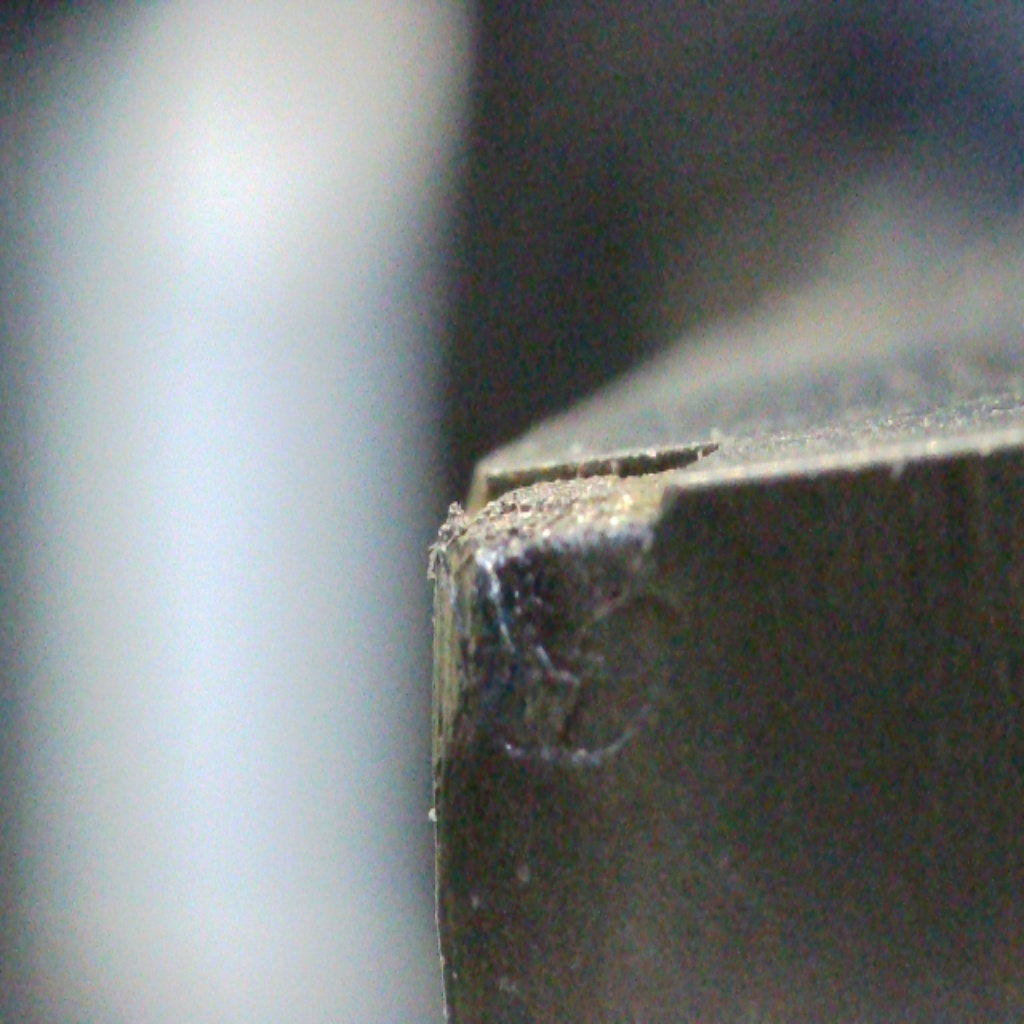flank_wear: (428, 548, 519, 779)
